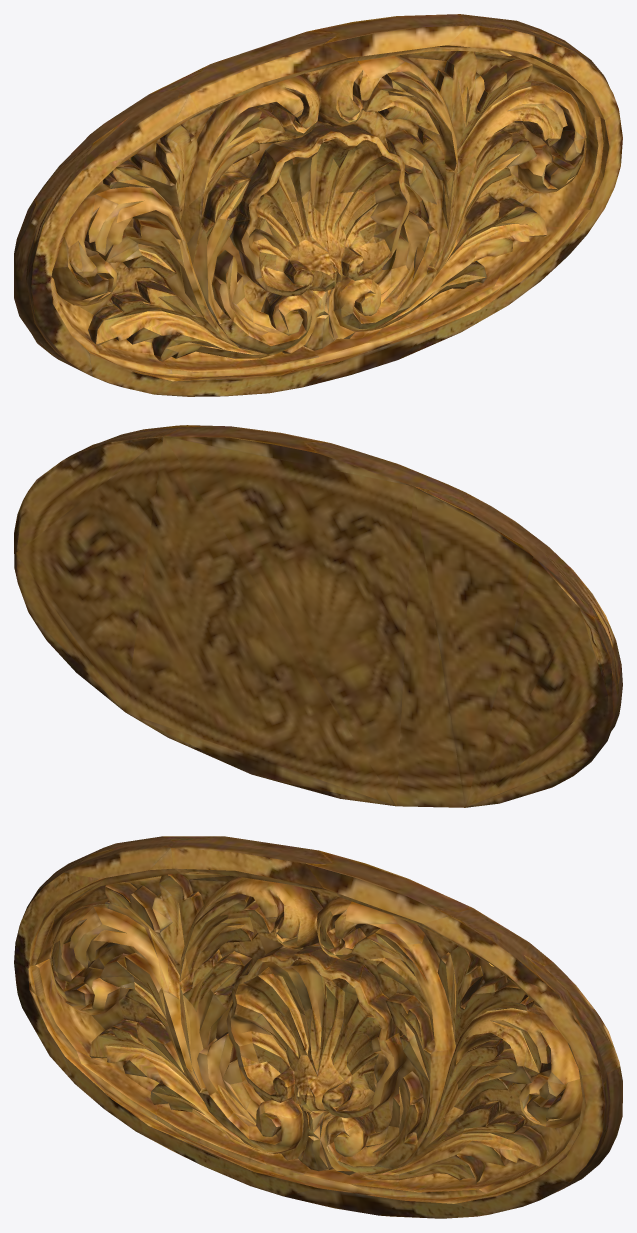
The model's file is cartouche.glb.
The picture shows the model from 3 angles, top to bottom: view 1: azimuth 30°, elevation 25°; view 2: azimuth 150°, elevation 25°; view 3: azimuth 330°, elevation 25°; orthographic projection.
Parts seen in each view (by area): view 1: output_unwrapped; view 2: output_unwrapped; view 3: output_unwrapped.
Part boxes in pixels (left/top/right/bottom): output_unwrapped: left=14, top=14, right=622, bottom=396; output_unwrapped: left=14, top=425, right=622, bottom=807; output_unwrapped: left=14, top=836, right=622, bottom=1218.
Bounding box in the file's own units: 1.9 × 1.03 × 0.1159.
Materials: 1 (1 with a texture image).
